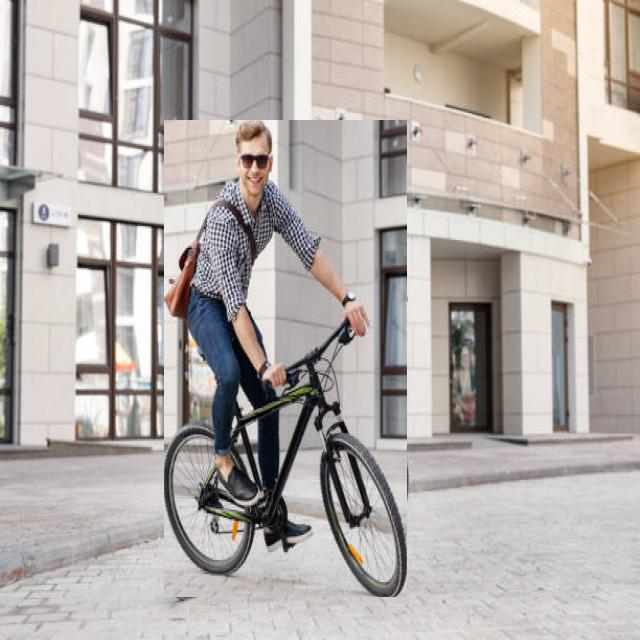bicycle: (165, 120, 407, 597)
